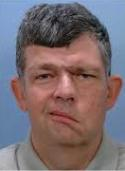strokeEyeWeak: (30, 63, 106, 86)
strokeMouthSevere: (46, 106, 87, 128)
